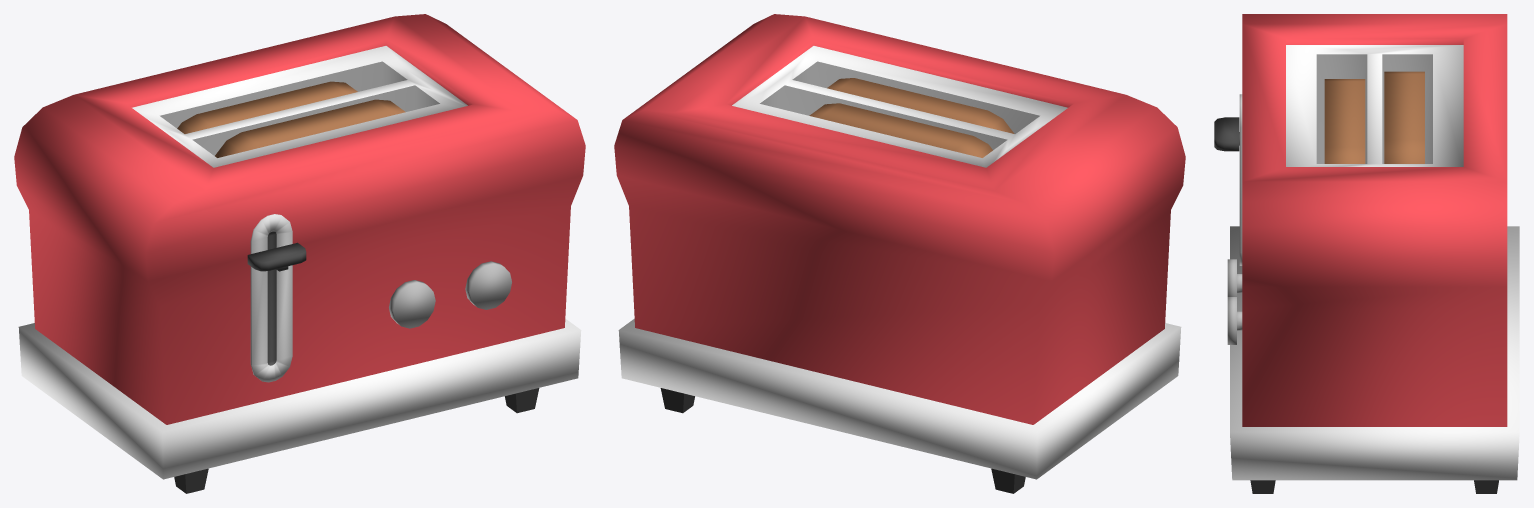
Rendered from Toaster.B.fbx.
The picture shows the model from 3 angles, left to right: view 1: azimuth 30°, elevation 25°; view 2: azimuth 150°, elevation 25°; view 3: azimuth 270°, elevation 25°; orthographic projection.
Visible parts, largest first — view 1: Toaster.B; view 2: Toaster.B; view 3: Toaster.B.
Part boxes in pixels (box(x1,y1,x2,y2)): Toaster.B: box(14, 14, 585, 493); Toaster.B: box(614, 14, 1185, 493); Toaster.B: box(1214, 14, 1519, 493).
Bounding box in the file's own units: 34.77 × 22.9 × 20.75.
Materials: 1 (1 with a texture image).
